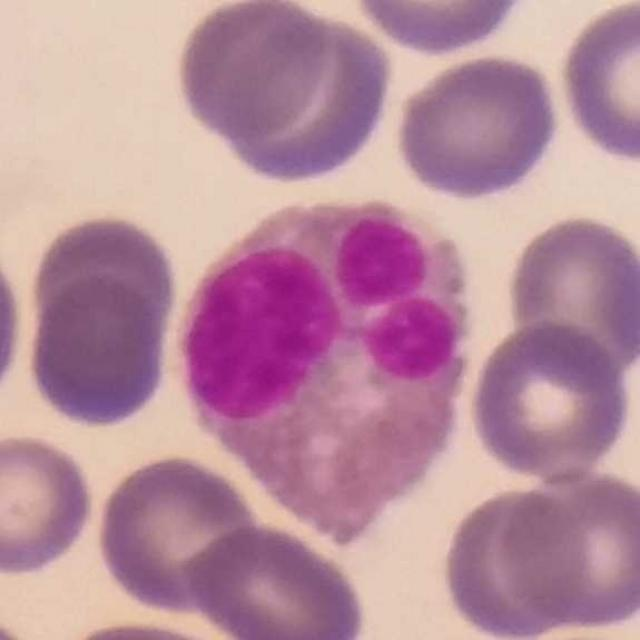eosino: (177, 198, 472, 547)
